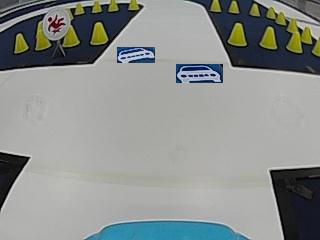cone: (228, 22, 247, 47), (90, 21, 108, 45), (259, 26, 277, 49), (34, 27, 50, 50), (286, 30, 301, 53), (63, 27, 80, 47), (13, 32, 27, 53), (301, 26, 311, 43), (249, 2, 260, 17), (210, 0, 222, 13), (228, 0, 239, 14), (266, 5, 276, 19), (276, 10, 285, 25), (91, 1, 102, 13), (74, 2, 84, 15), (108, 0, 118, 12), (128, 0, 138, 10)
tumble: (44, 12, 68, 37)
